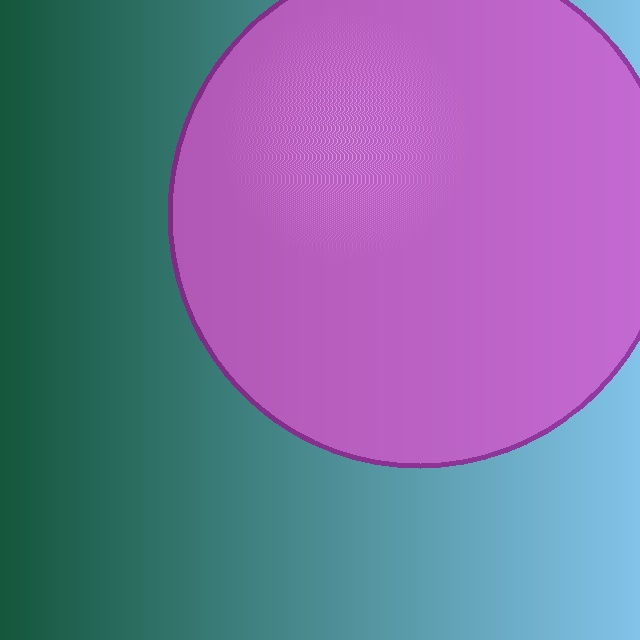lens: (171, 0, 640, 465)
